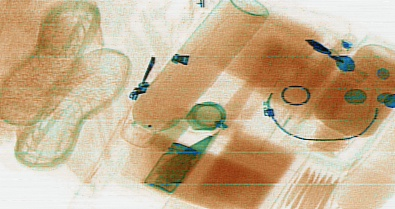pressure: (117, 1, 268, 148)
